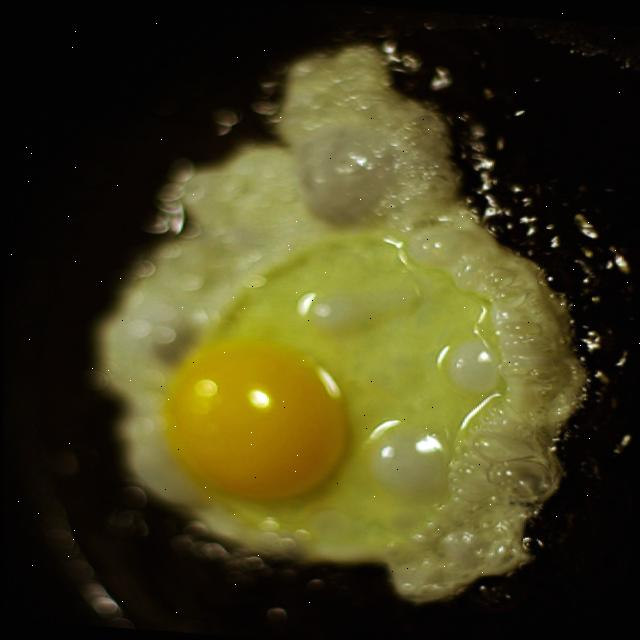鸡蛋料理: (65, 62, 602, 611)
